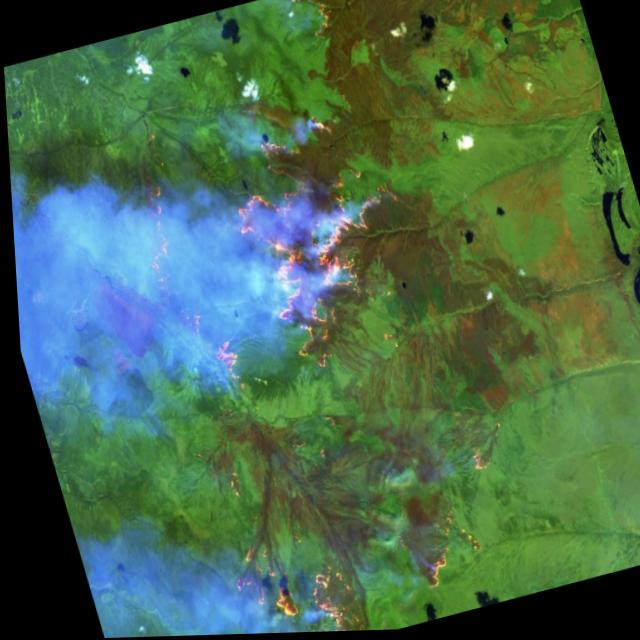fire: (66, 0, 545, 638)
